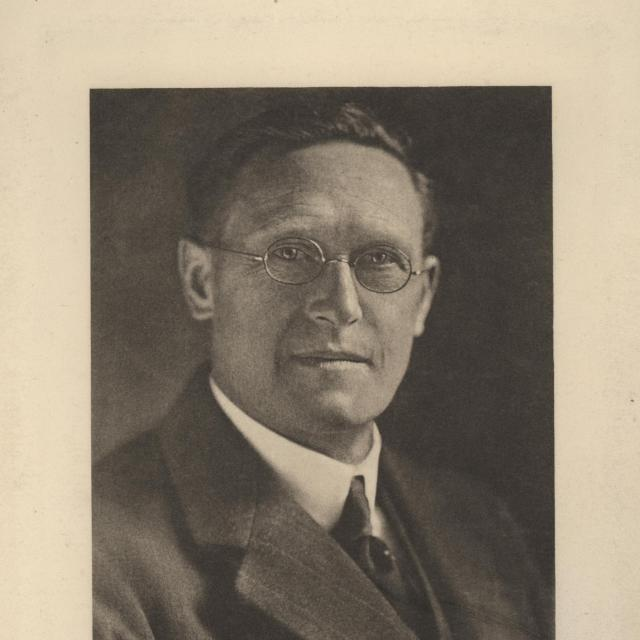no-glass: (266, 247, 400, 269)
